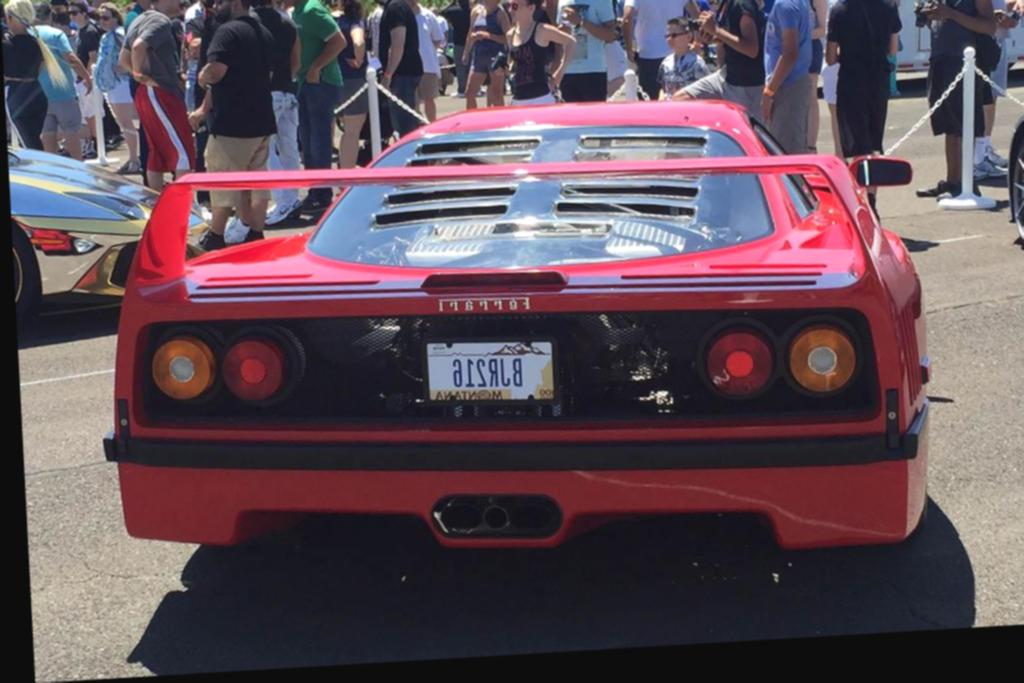License_Plate: (425, 336, 552, 396)
